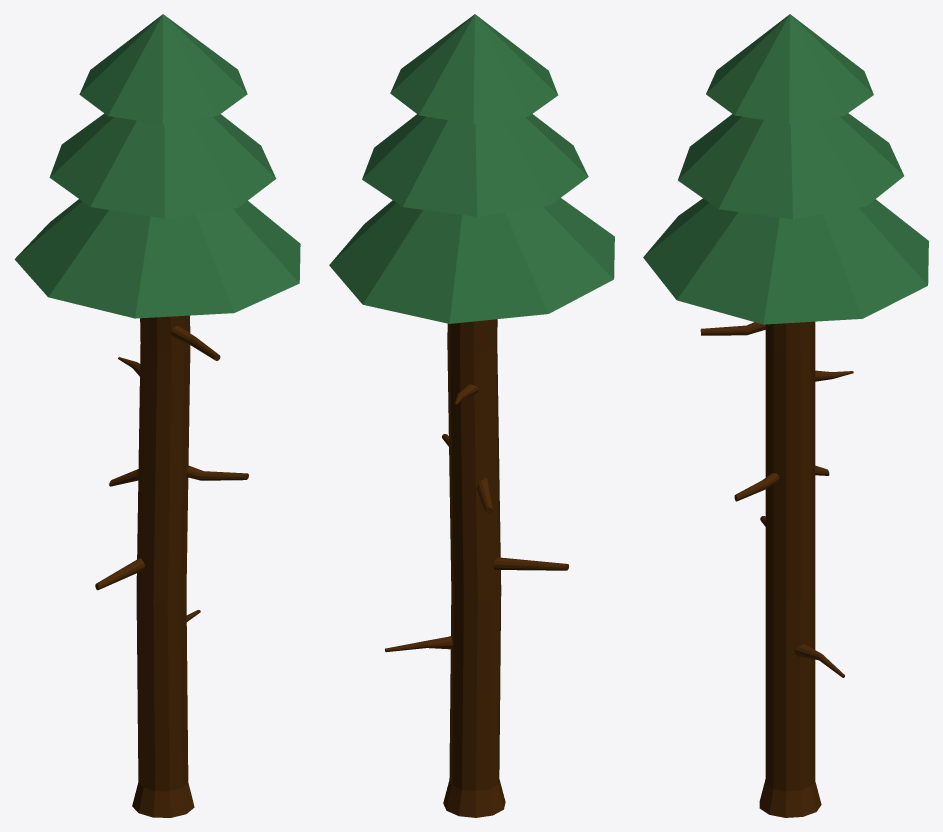
Rendered from lodgepole_pine_variant2.fbx.
The picture shows the model from 3 angles, left to right: view 1: azimuth 30°, elevation 25°; view 2: azimuth 150°, elevation 25°; view 3: azimuth 270°, elevation 25°; orthographic projection.
Visible parts, largest first — view 1: Cone.008, Cylinder.001, Cone.009, Cone.010, Cylinder.007, Cylinder.002, Cylinder.003; view 2: Cone.008, Cylinder.001, Cone.009, Cone.010, Cylinder.002, Cylinder.005; view 3: Cone.008, Cylinder.001, Cone.009, Cone.010, Cylinder.003.
Boxes of the visible parts, x1,y1,x2,y2 form: Cone.008: [14, 199, 300, 318]; Cylinder.001: [132, 315, 194, 817]; Cone.009: [49, 113, 276, 218]; Cone.010: [79, 14, 247, 124]; Cylinder.007: [186, 465, 248, 480]; Cylinder.002: [95, 558, 144, 590]; Cylinder.003: [171, 326, 220, 360]; Cone.008: [329, 198, 614, 323]; Cylinder.001: [443, 319, 505, 817]; Cone.009: [362, 114, 588, 216]; Cone.010: [390, 14, 558, 124]; Cylinder.002: [493, 557, 568, 570]; Cylinder.005: [385, 636, 452, 652]; Cone.008: [643, 198, 928, 324]; Cylinder.001: [759, 321, 821, 817]; Cone.009: [678, 113, 903, 219]; Cone.010: [706, 14, 873, 123]; Cylinder.003: [700, 322, 765, 335].
Size of the model in its own units: 230 by 691 by 227.
